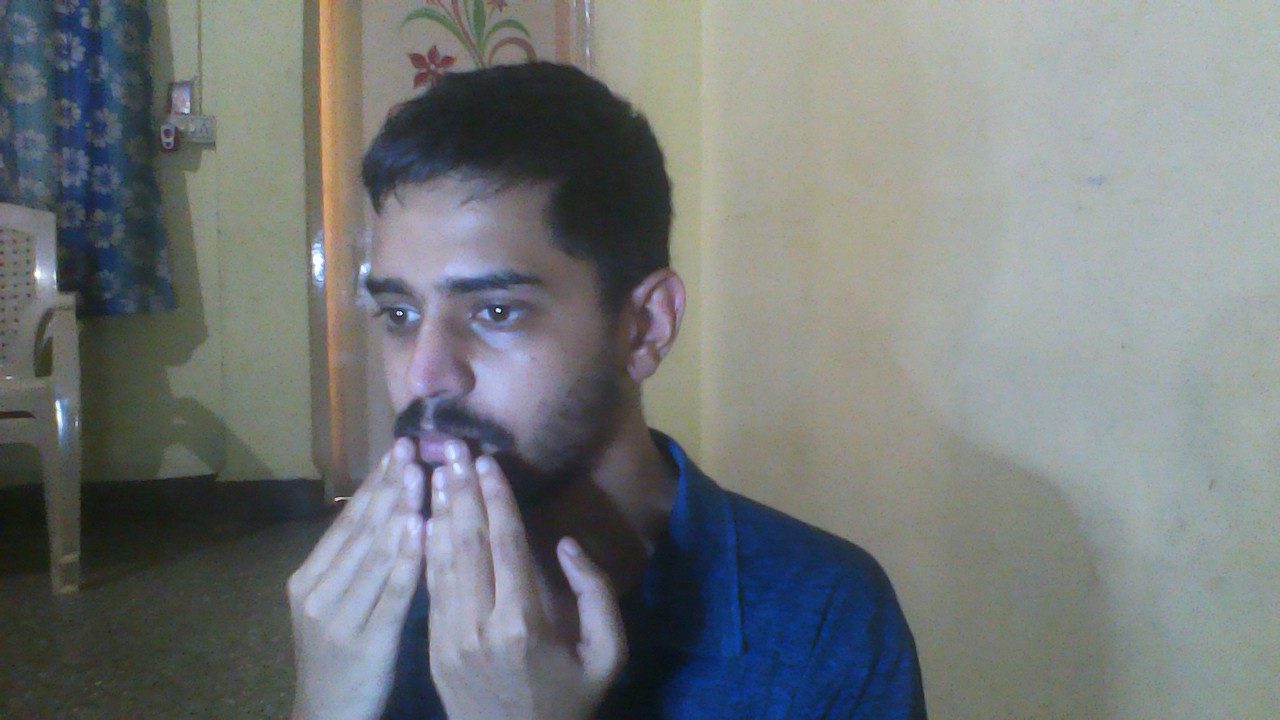thanks: (262, 420, 669, 720)
